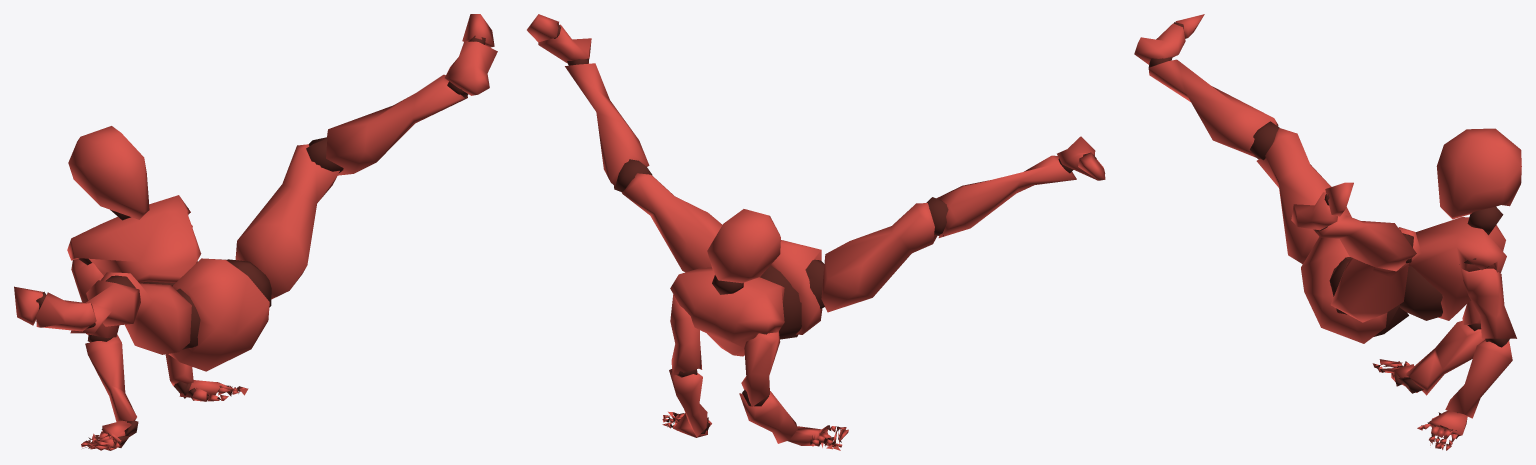
3 renders of one model, left to right at view 1: azimuth 30°, elevation 25°; view 2: azimuth 150°, elevation 25°; view 3: azimuth 270°, elevation 25°, orthographic. The views are drawn at different scales.
Visible parts, largest first — view 1: Beta_Surface; view 2: Beta_Surface; view 3: Beta_Surface.
Part boxes in pixels (x1=…): Beta_Surface: x1=14, y1=14, x2=497, y2=450; Beta_Surface: x1=527, y1=14, x2=1105, y2=450; Beta_Surface: x1=1134, y1=14, x2=1521, y2=450.
Size of the model in its own units: 18.46 by 11.79 by 11.48.
